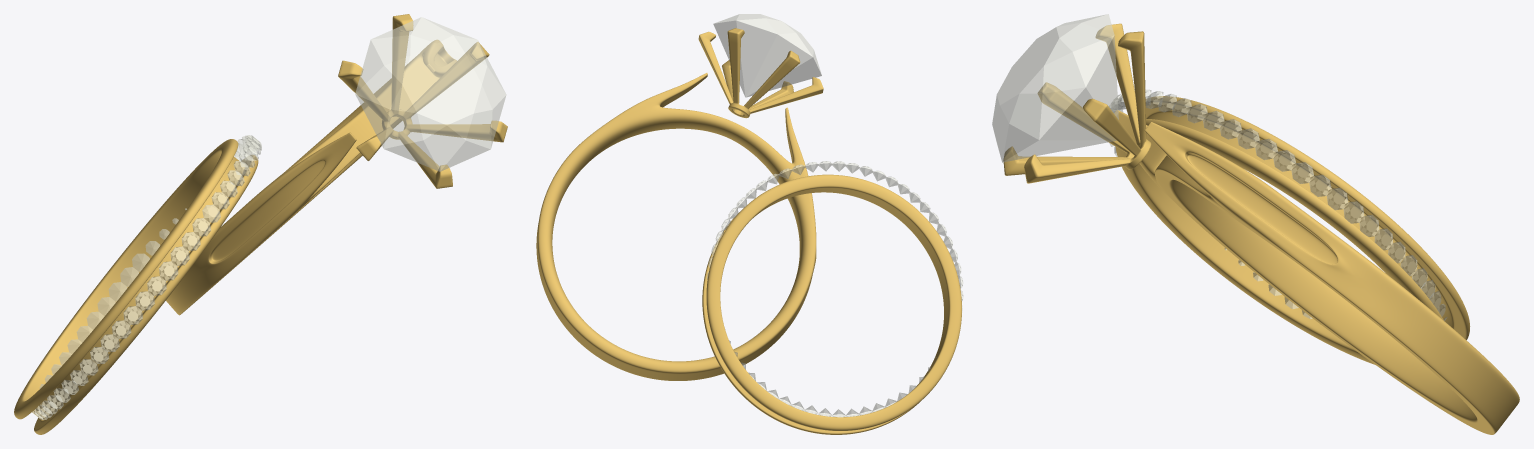
The model's file is jewel-1.glb.
3 renders of one model, left to right at view 1: azimuth 30°, elevation 25°; view 2: azimuth 150°, elevation 25°; view 3: azimuth 270°, elevation 25°, orthographic. The views are drawn at different scales.
Visible parts, largest first — view 1: Tube006, diamond, Tube005, Circle126, Tube004; view 2: Tube005, Tube006, diamond, Tube004, Circle126; view 3: Tube005, Tube006, diamond, Tube004, Circle126.
Boxes of the visible parts, <box> form: Tube006: <box>14,139,258,434</box>; diamond: <box>355,17,506,171</box>; Tube005: <box>166,40,456,315</box>; Circle126: <box>32,135,261,419</box>; Tube004: <box>338,14,507,188</box>; Tube005: <box>536,73,816,380</box>; Tube006: <box>702,174,961,434</box>; diamond: <box>713,14,821,97</box>; Tube004: <box>698,28,823,118</box>; Circle126: <box>707,161,963,417</box>; Tube005: <box>1114,110,1519,434</box>; Tube006: <box>1115,96,1470,364</box>; diamond: <box>992,14,1118,162</box>; Tube004: <box>1003,23,1151,183</box>; Circle126: <box>1109,89,1447,320</box>.
Size of the model in its own units: 0.0631 by 0.0521 by 0.0527.
